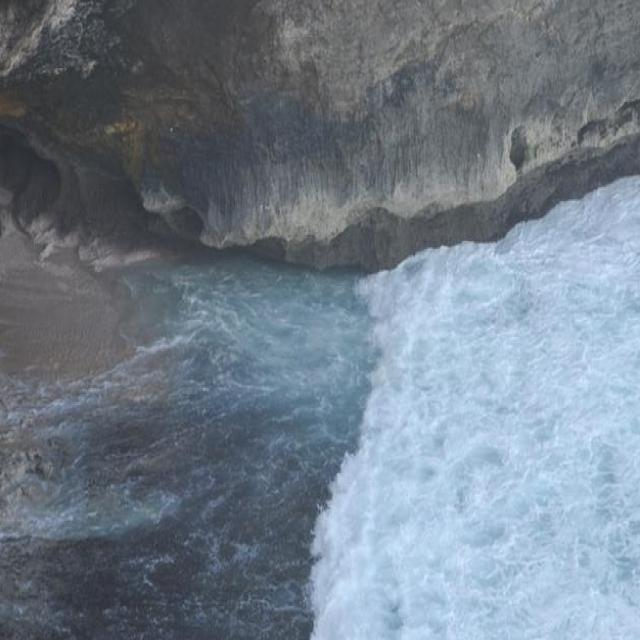reef: (19, 47, 571, 272)
